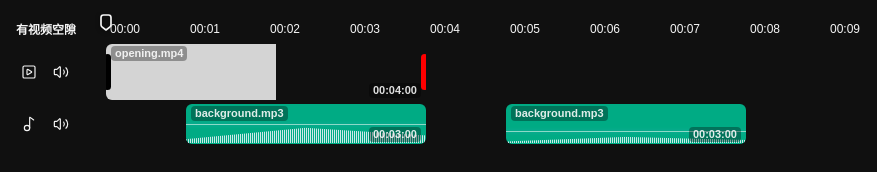
Test: TimelineViewport DOM interactions › adjusts audio volume by pointer position and commits the gesture
Press the mouse on the button named "Adjust background.mp3 volume, 50 percent": {"x": 306, "y": 124} [186,118,426,130]
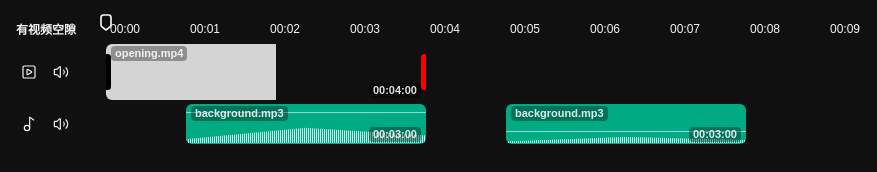
Expected: the button named "Adjust background.mp3 volume, 100 percent" is shown, [186,106,426,118]
